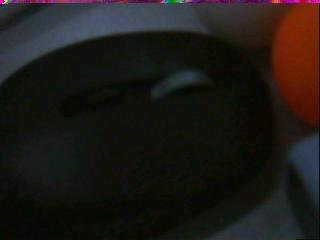oball: (271, 3, 320, 129)
